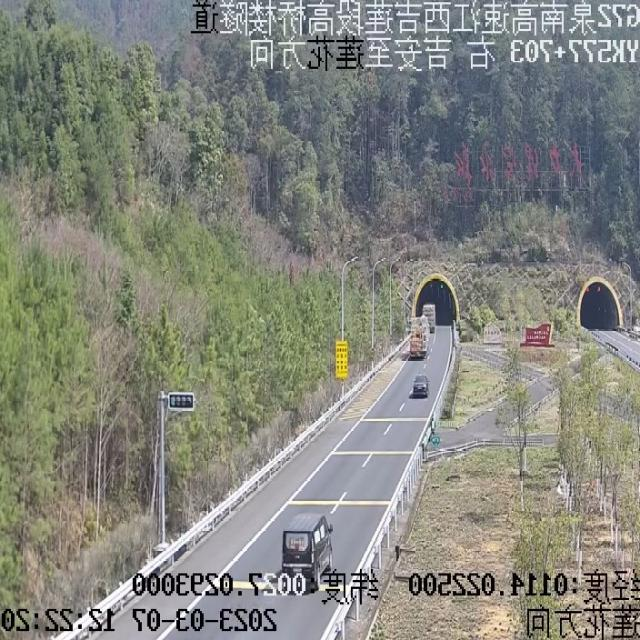point: (379, 259, 479, 361)
